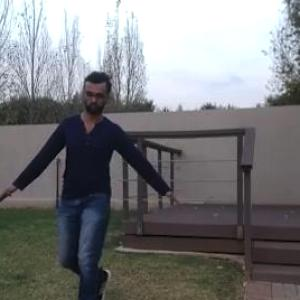land: (24, 77, 161, 299)
